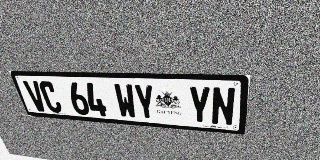4: (83, 82, 108, 117)
6: (65, 82, 91, 115)
C: (37, 81, 64, 113)
N: (211, 87, 236, 126)
V: (22, 81, 49, 112)
W: (113, 83, 138, 119)
Y: (188, 86, 211, 124), (133, 84, 157, 120)
